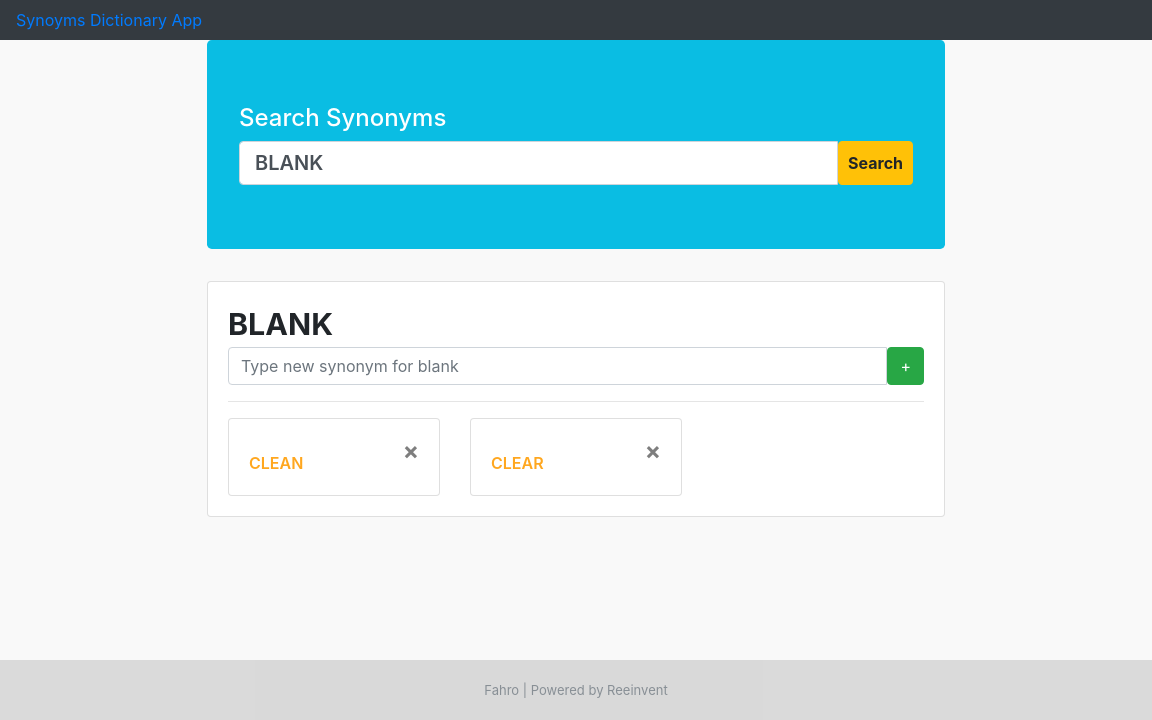
Test: <App/> › Adding synonyms › Transitivity rule works
This screenshot has width=1152, height=720.
In the field with class "synonym-input": (558, 366) [228, 347, 887, 385], type "dirt-free"
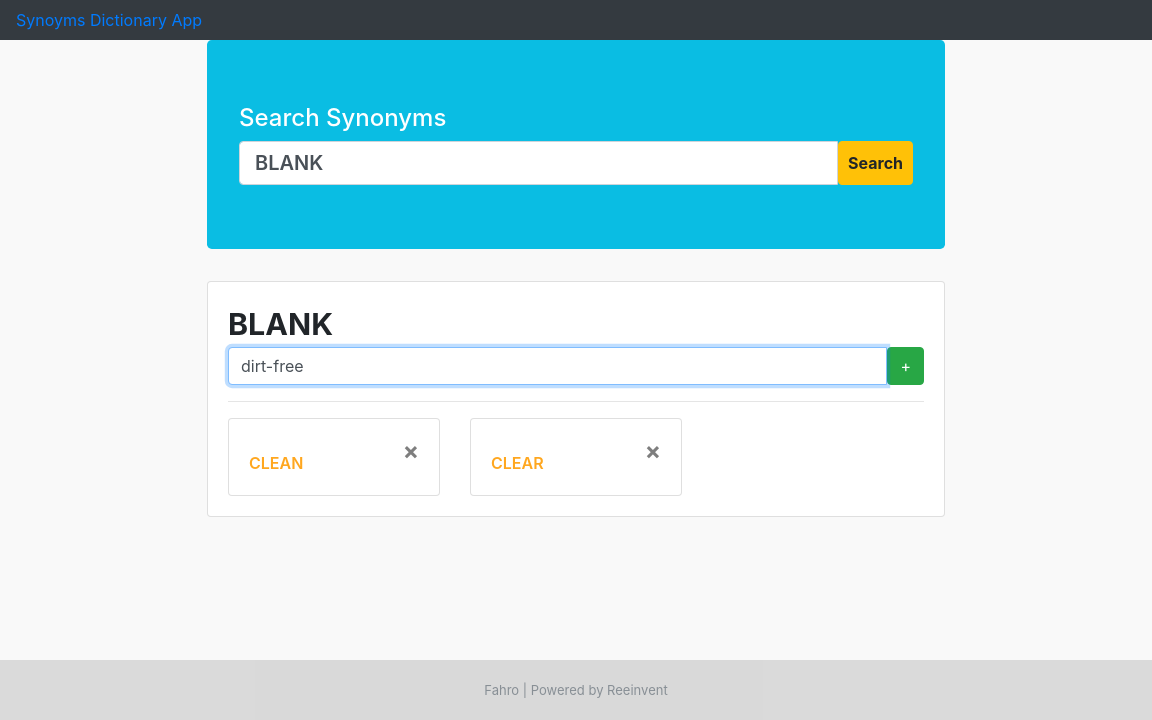
Click the button with class "btn-success": (906, 366) [887, 347, 924, 385]
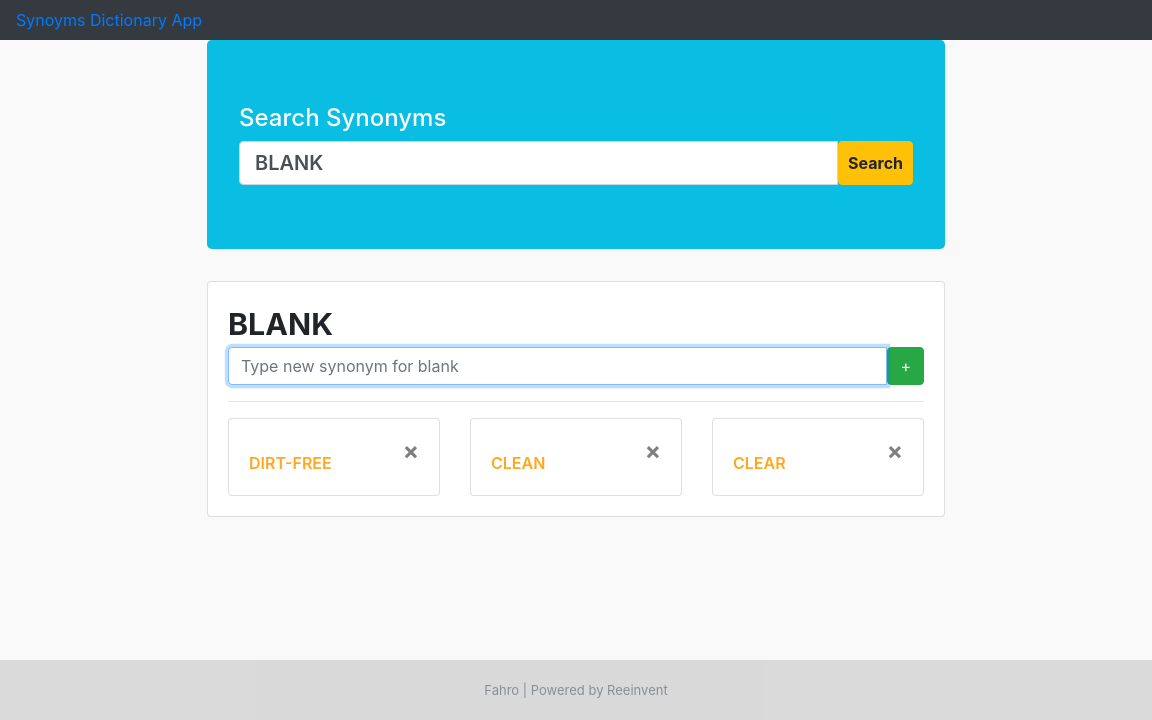
Expected: the text "clear" is shown, [733, 453, 786, 473]
Now the text "dirt-free" is shown
Now the number of elements with class "synonym-text" is 3
Click the text with class "synonym-text" showing "dirt-free": (291, 463) [249, 453, 332, 473]
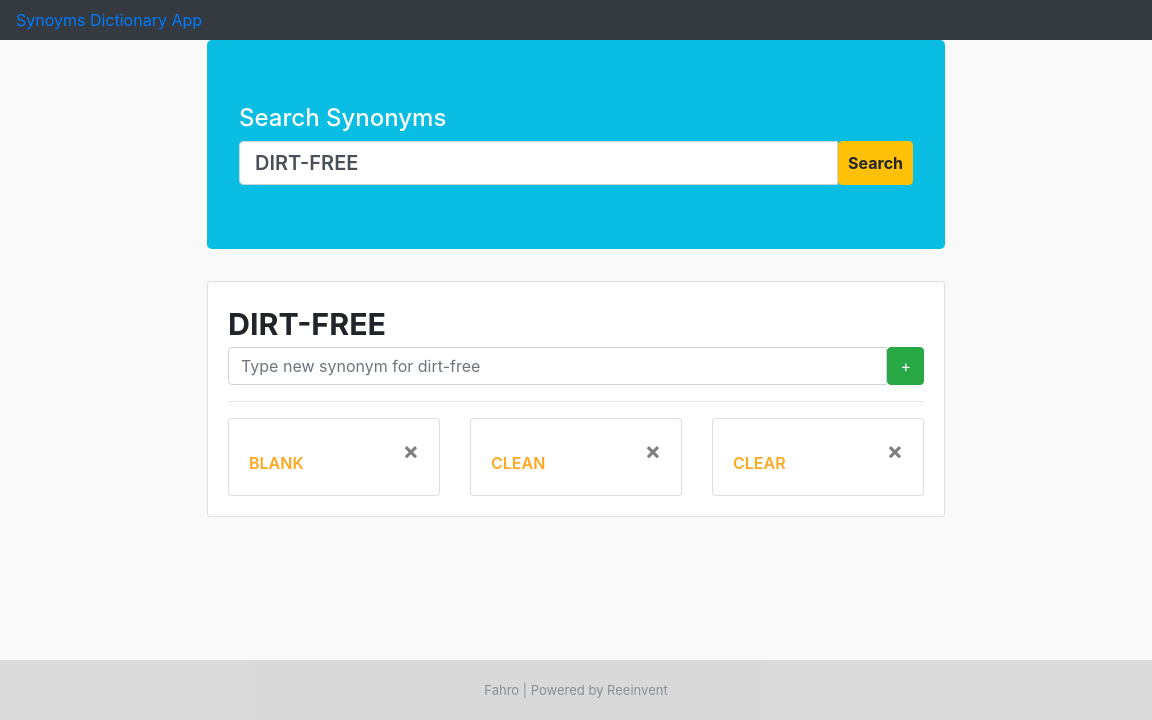
Expected: the text "clear" is shown, [733, 453, 786, 473]
Now the number of elements with class "synonym-text" is 3, box [249, 453, 304, 473]; [491, 453, 545, 473]; [733, 453, 786, 473]
Now the text "blank" is shown, box [249, 453, 304, 473]
